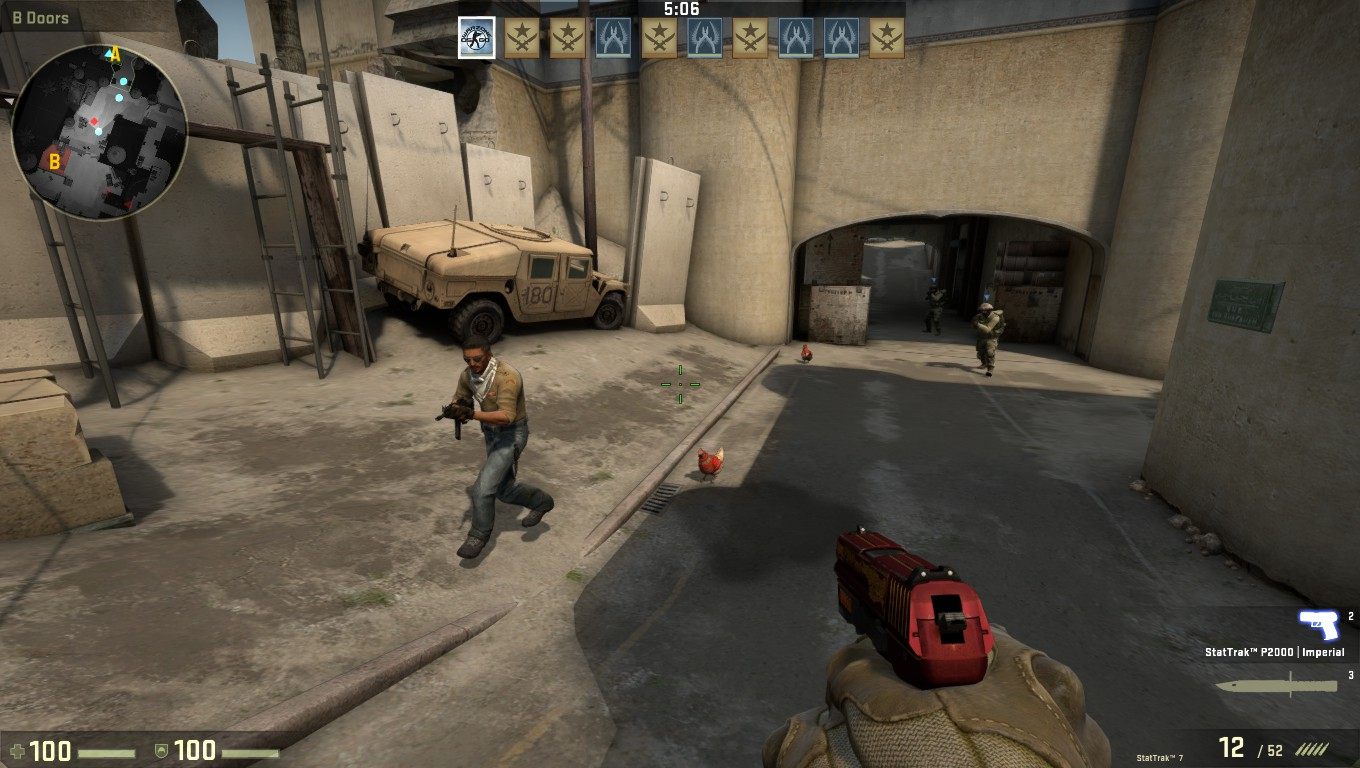c: (972, 300, 1004, 376), (924, 283, 945, 335)
ch: (976, 301, 996, 319)
t: (435, 328, 531, 566)
th: (457, 335, 494, 378)
